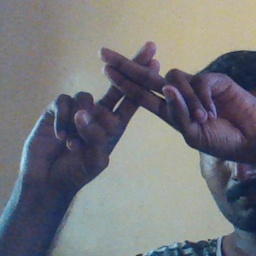F: (65, 34, 211, 149)
